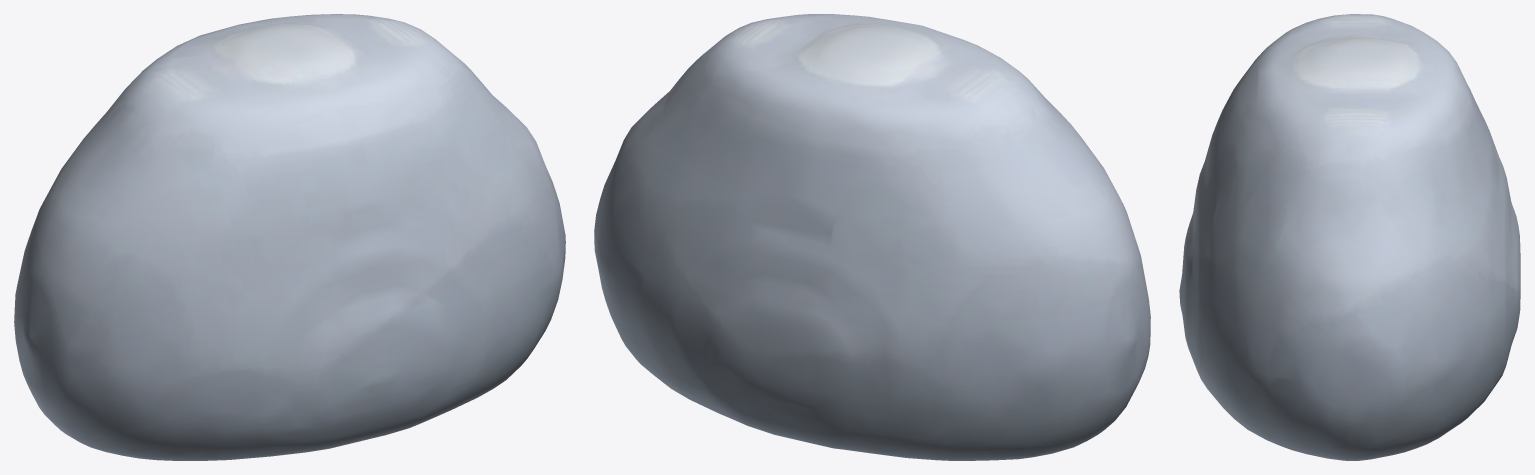
File: rock.glb
3 views of the same model, side by side, from view 1: azimuth 30°, elevation 25°; view 2: azimuth 150°, elevation 25°; view 3: azimuth 270°, elevation 25° (orthographic). The views are drawn at different scales.
Visible parts, largest first — view 1: prop; view 2: prop; view 3: prop.
Boxes of the visible parts, left/top/right/bottom form: prop: left=14, top=14, right=565, bottom=460; prop: left=594, top=14, right=1150, bottom=460; prop: left=1179, top=14, right=1520, bottom=460.
Size of the model in its own units: 1.45 by 0.9573 by 0.9079.
1 material, 1 textured.
